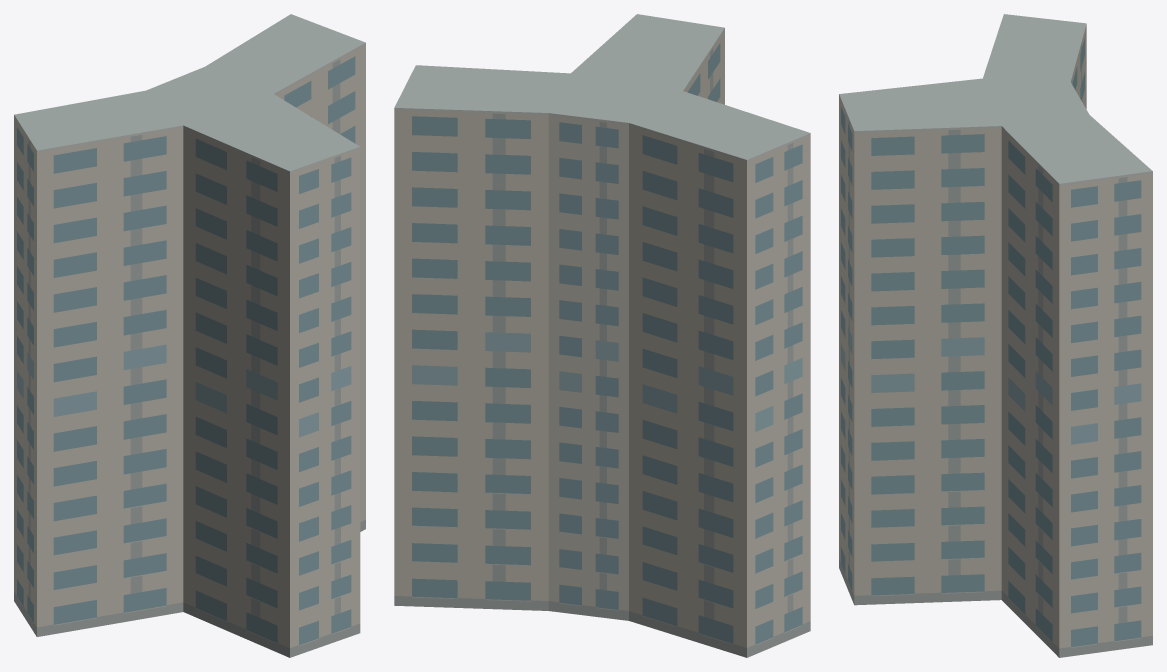
File: residential-e86d5276-f01e-4b9a-9227-e194ececee32.glb
3 renders of one model, left to right at view 1: azimuth 30°, elevation 25°; view 2: azimuth 150°, elevation 25°; view 3: azimuth 270°, elevation 25°, orthographic. The views are drawn at different scales.
Parts seen in each view (by area): view 1: residential-e86d5276-f01e-4b9a-9227-e194ececee32.tmp; view 2: residential-e86d5276-f01e-4b9a-9227-e194ececee32.tmp; view 3: residential-e86d5276-f01e-4b9a-9227-e194ececee32.tmp.
Boxes of the visible parts, x1,y1,x2,y2 form: residential-e86d5276-f01e-4b9a-9227-e194ececee32.tmp: (14, 14, 365, 657); residential-e86d5276-f01e-4b9a-9227-e194ececee32.tmp: (394, 14, 810, 657); residential-e86d5276-f01e-4b9a-9227-e194ececee32.tmp: (839, 14, 1152, 657).
Bounding box in the file's own units: 39.21 × 51 × 30.6.
